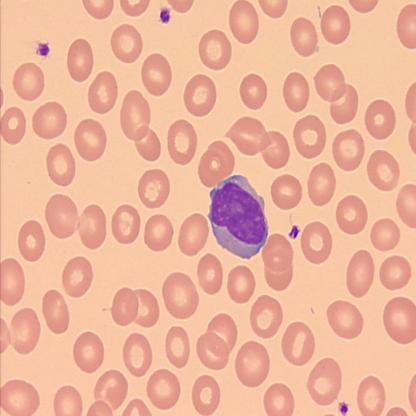Atypical lymphocyte: (208, 175, 270, 262)
